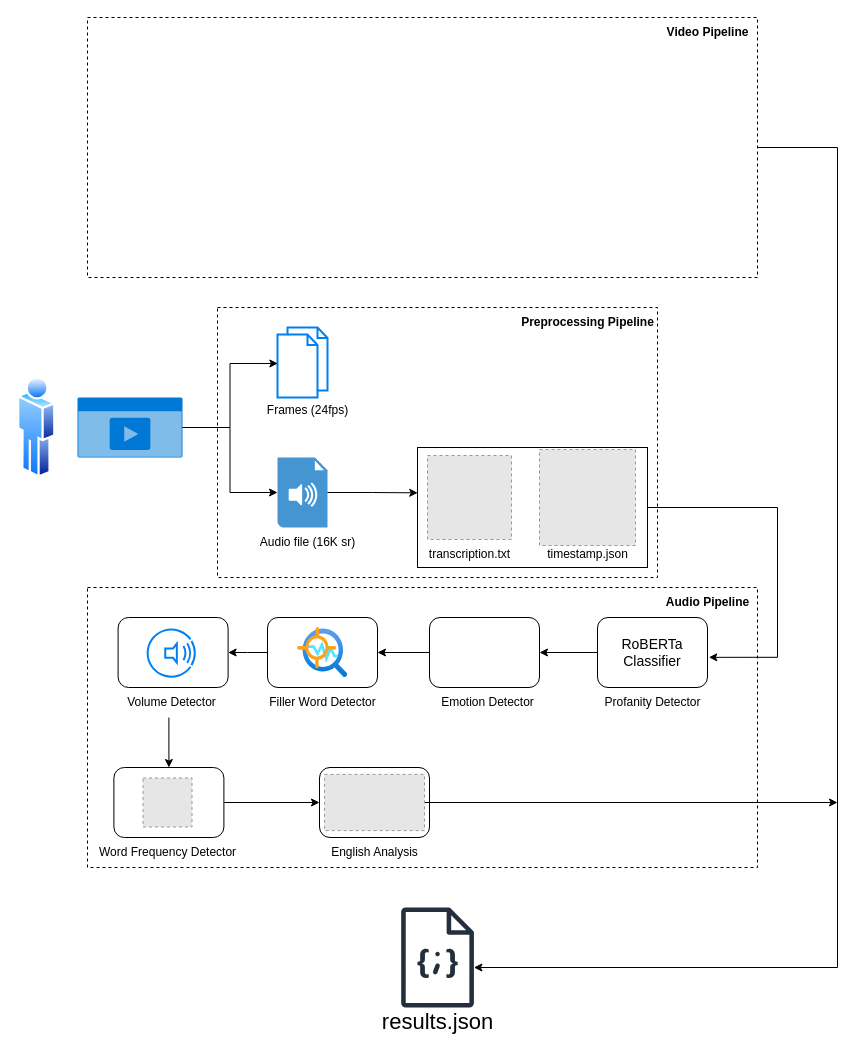
The diagram is 863 pixels wide and 1060 high, and some of its shapes have lost their labels. Grey dashed boxes stand in for pictures. Each missing label, with the box of its shape:
HuBERT Emotion Classifier: (428, 616, 540, 688)
Video: (77, 397, 182, 457)
